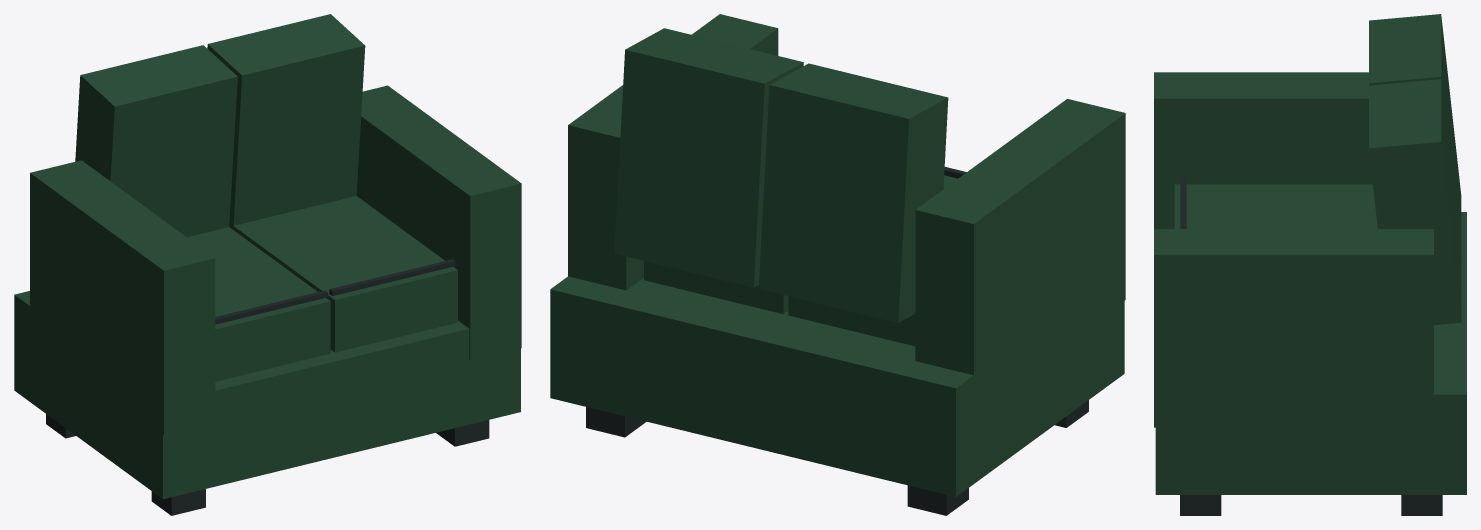
The model's file is good.glb.
3 views of the same model, side by side, from view 1: azimuth 30°, elevation 25°; view 2: azimuth 150°, elevation 25°; view 3: azimuth 270°, elevation 25° (orthographic). The views are drawn at different scales.
Visible parts, largest first — view 1: Armrest, Sofa foot; view 2: Armrest, Sofa foot; view 3: Armrest, Sofa foot.
Part boxes in pixels (x1=…): Armrest: x1=14, y1=14, x2=521, y2=499; Sofa foot: x1=46, y1=259, x2=489, y2=515; Armrest: x1=550, y1=14, x2=1125, y2=496; Sofa foot: x1=586, y1=167, x2=1088, y2=515; Armrest: x1=1154, y1=14, x2=1466, y2=494; Sofa foot: x1=1180, y1=177, x2=1442, y2=515.
Bounding box in the file's own units: 1 × 0.9112 × 0.724.
